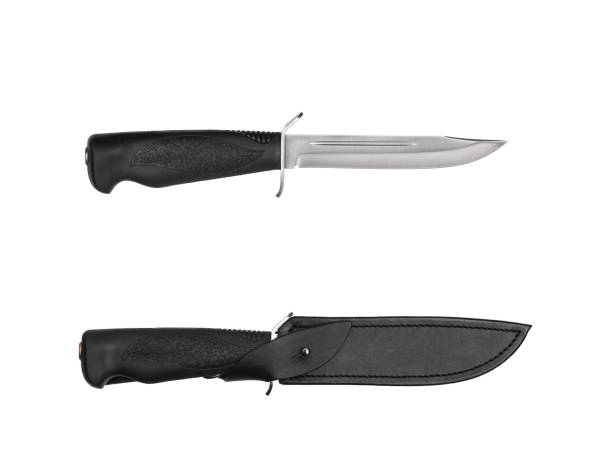knife: (77, 312, 530, 387), (82, 131, 505, 192)
